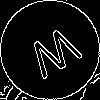W: (25, 25, 89, 89)
